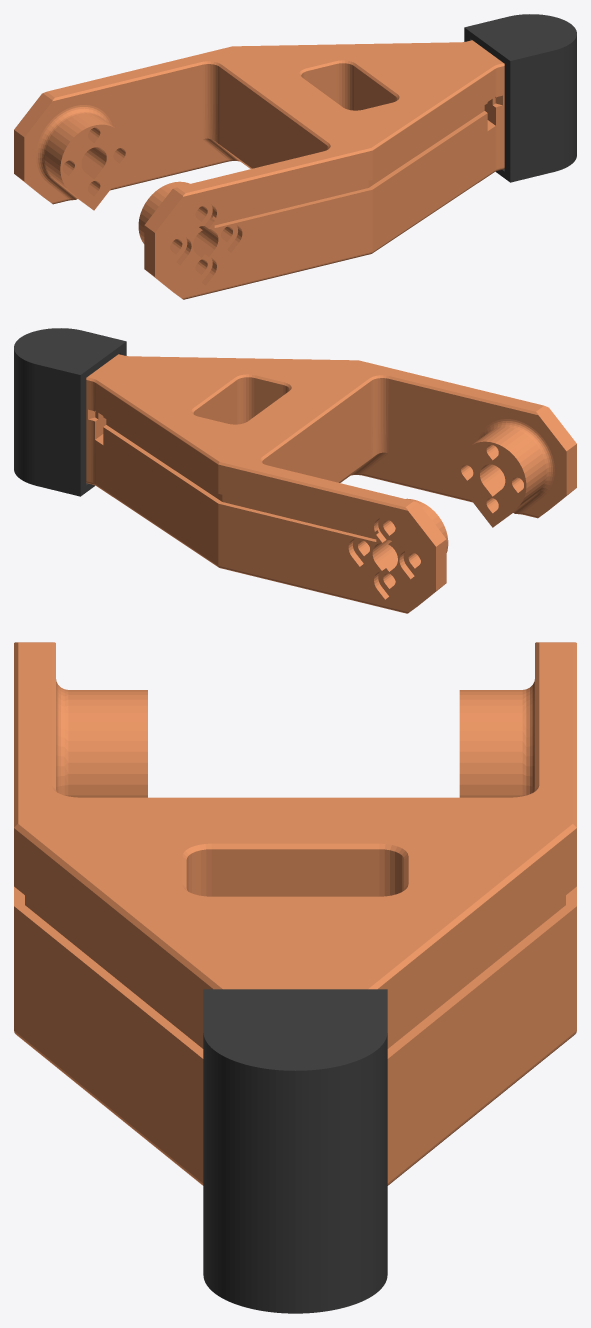
Rendered from tibia.glb.
The picture shows the model from 3 angles, top to bottom: view 1: azimuth 30°, elevation 25°; view 2: azimuth 150°, elevation 25°; view 3: azimuth 270°, elevation 25°; orthographic projection. The views are drawn at different scales.
Parts seen in each view (by area): view 1: tibia; view 2: tibia; view 3: tibia.
Part boxes in pixels (<box>): tibia: <box>14,14,576,299</box>; tibia: <box>14,328,576,613</box>; tibia: <box>14,642,576,1313</box>.
Bounding box in the file's own units: 0.134 × 0.032 × 0.0673.
